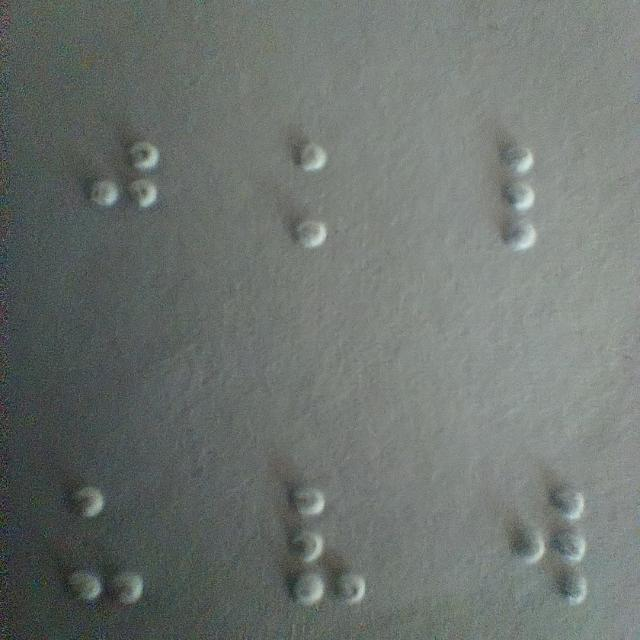j: (76, 138, 166, 253)
k: (290, 138, 381, 253)
l: (495, 141, 586, 256)
u: (62, 481, 151, 609)
v: (282, 479, 371, 607)
w: (503, 482, 592, 610)
